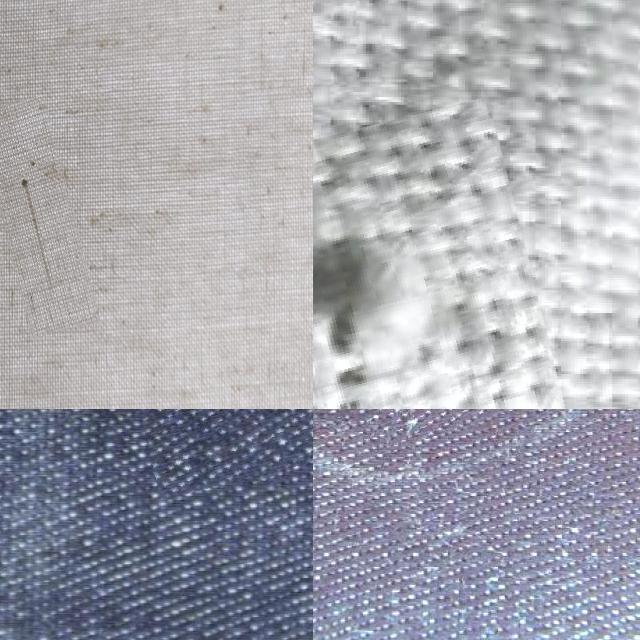Thread_other: (313, 114, 559, 409), (0, 97, 86, 336), (85, 409, 313, 490), (366, 409, 492, 442)
